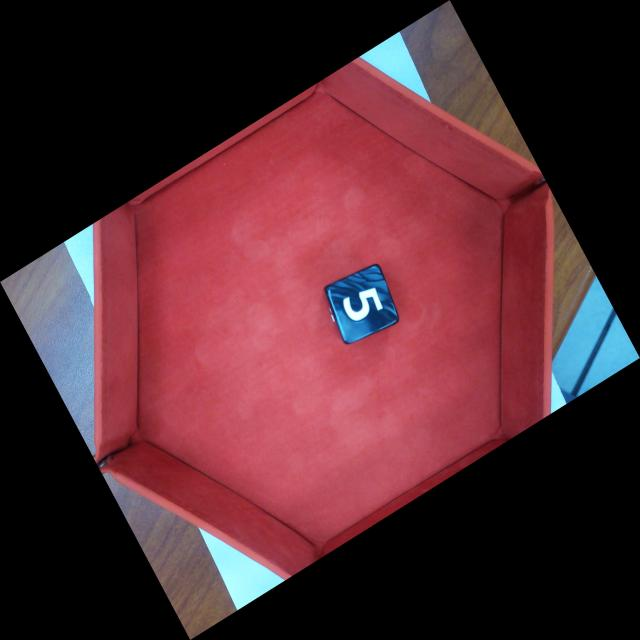dice: (323, 262, 401, 347)
